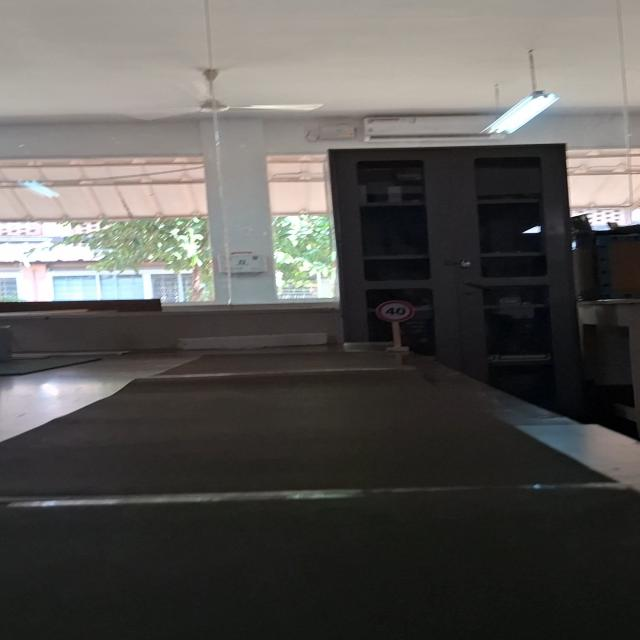Speed40: (374, 298, 416, 323)
